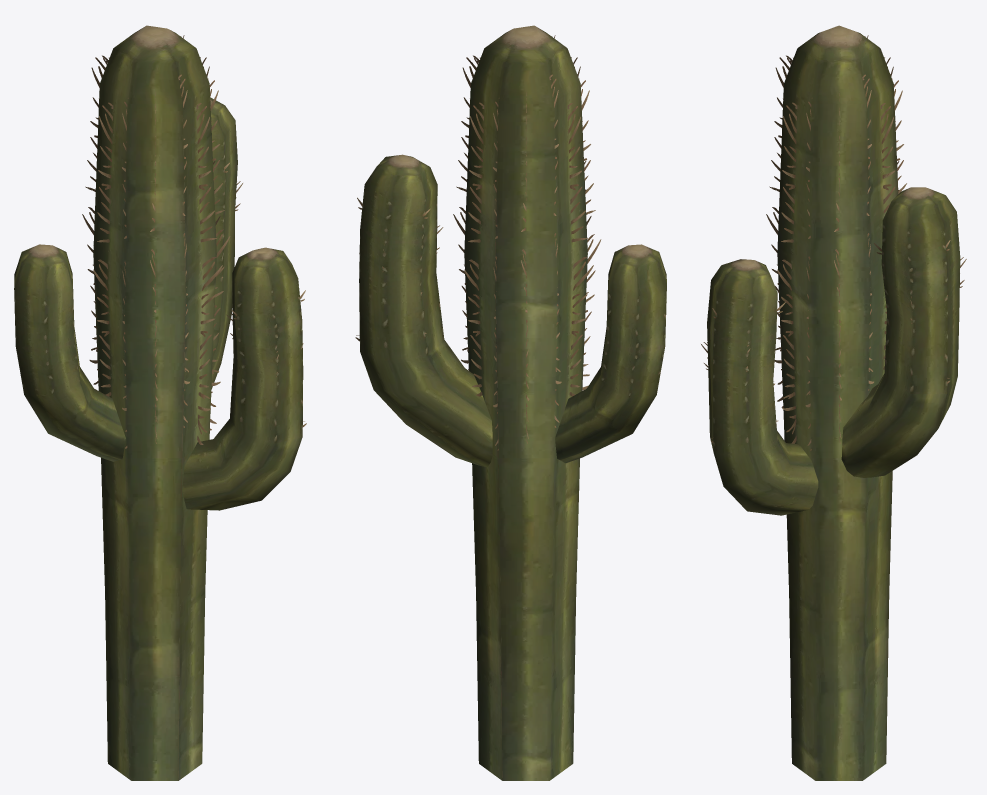
3 views of the same model, side by side, from view 1: azimuth 30°, elevation 25°; view 2: azimuth 150°, elevation 25°; view 3: azimuth 270°, elevation 25° (orthographic).
Bounding box in the file's own units: 3.14 × 8.13 × 2.8.
1 material, 1 textured.
